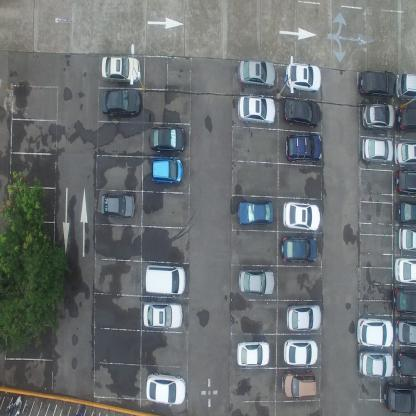car: (144, 262, 186, 296), (146, 371, 186, 406), (100, 88, 142, 118), (99, 53, 141, 83), (237, 94, 276, 126), (283, 96, 321, 128), (238, 58, 276, 90), (143, 300, 183, 330), (282, 200, 320, 231), (356, 316, 394, 347), (383, 380, 416, 415), (285, 62, 321, 94), (238, 267, 276, 297), (284, 337, 319, 368), (287, 302, 323, 332), (285, 133, 322, 162), (282, 370, 317, 400), (359, 70, 396, 98), (237, 198, 274, 225), (282, 235, 319, 262), (148, 126, 186, 152), (237, 339, 270, 368), (362, 102, 395, 131), (101, 190, 135, 218), (149, 157, 183, 184), (358, 352, 393, 378), (362, 136, 394, 164), (392, 286, 416, 316), (394, 317, 416, 346), (393, 258, 416, 284), (396, 349, 416, 378), (394, 169, 416, 195), (394, 142, 416, 168), (396, 198, 416, 226), (397, 72, 415, 101), (396, 106, 416, 132), (398, 226, 416, 251)
